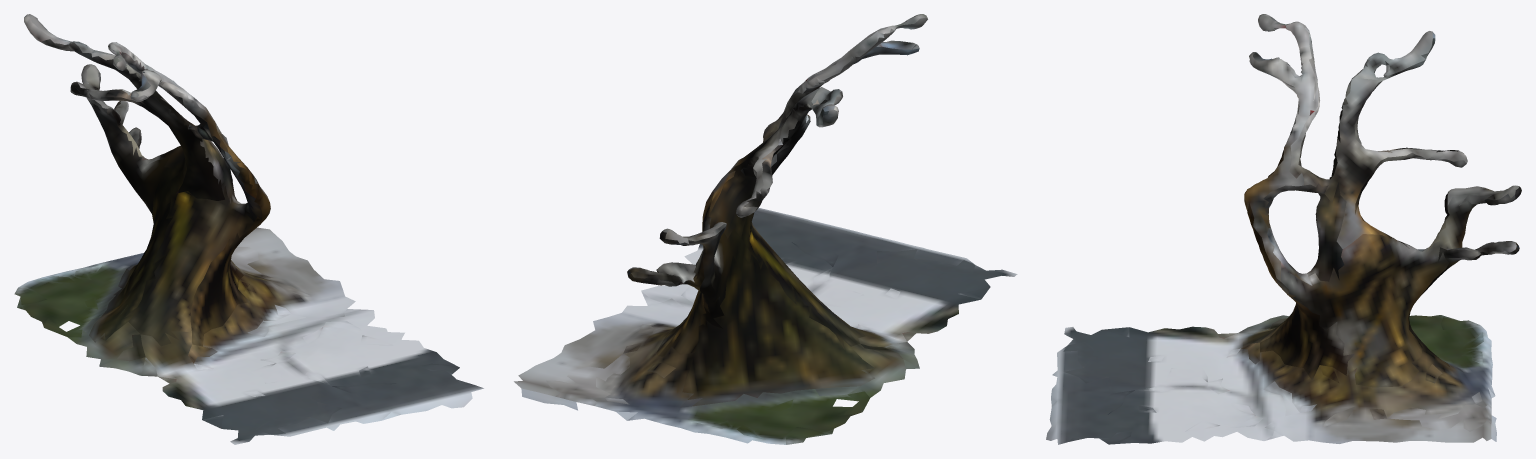
3 renders of one model, left to right at view 1: azimuth 30°, elevation 25°; view 2: azimuth 150°, elevation 25°; view 3: azimuth 270°, elevation 25°, orthographic. The views are drawn at different scales.
Visible parts, largest first — view 1: input.006; view 2: input.006; view 3: input.006.
Part boxes in pixels (x1,y1,x2,y2): input.006: (14, 14, 483, 444); input.006: (514, 14, 1017, 444); input.006: (1046, 14, 1521, 444).
Size of the model in its own units: 7.95 by 9.05 by 12.4.
